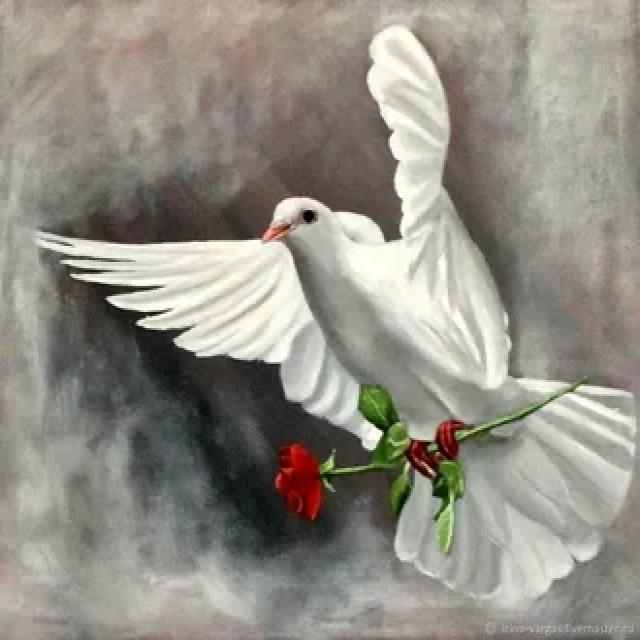pigeon: (31, 12, 640, 606)
